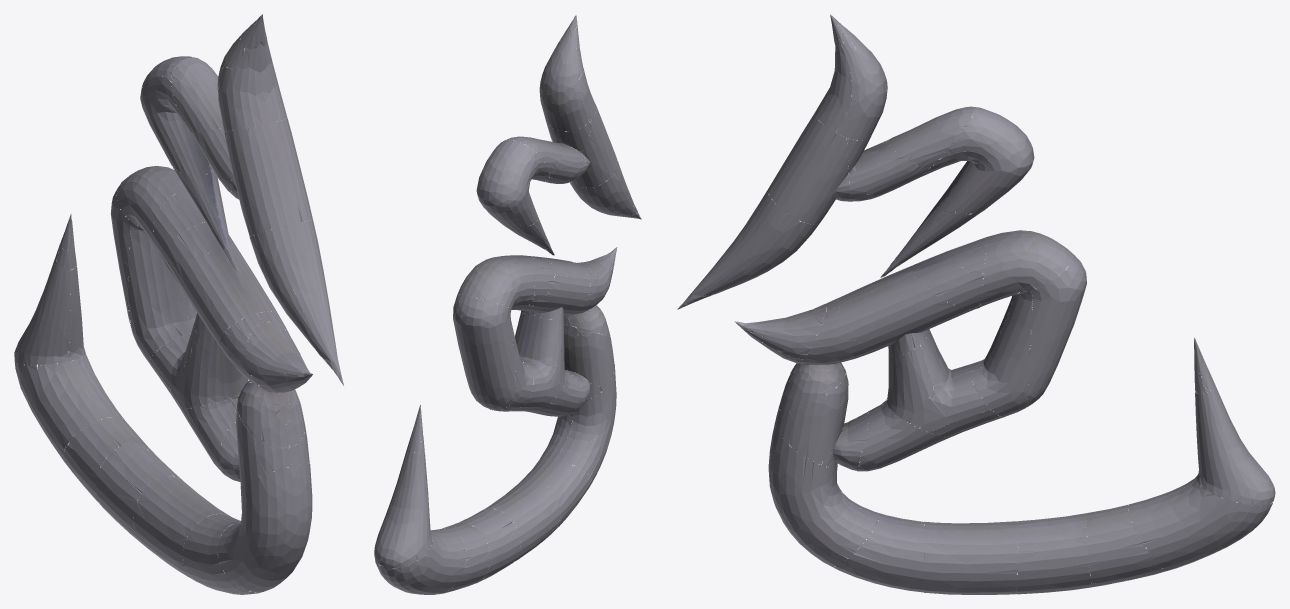
3 views of the same model, side by side, from view 1: azimuth 30°, elevation 25°; view 2: azimuth 150°, elevation 25°; view 3: azimuth 270°, elevation 25° (orthographic). The views are drawn at different scales.
Visible parts, largest first — view 1: tripo_node_98419659-dca4-4a95-a3e7-f9111cddc0de; view 2: tripo_node_98419659-dca4-4a95-a3e7-f9111cddc0de; view 3: tripo_node_98419659-dca4-4a95-a3e7-f9111cddc0de.
Boxes of the visible parts, x1,y1,x2,y2 form: tripo_node_98419659-dca4-4a95-a3e7-f9111cddc0de: [14, 14, 343, 594]; tripo_node_98419659-dca4-4a95-a3e7-f9111cddc0de: [374, 15, 641, 594]; tripo_node_98419659-dca4-4a95-a3e7-f9111cddc0de: [677, 14, 1275, 594].
Bounding box in the file's own units: 0.1059 × 0.999 × 0.9446.
1 material, 1 textured.
